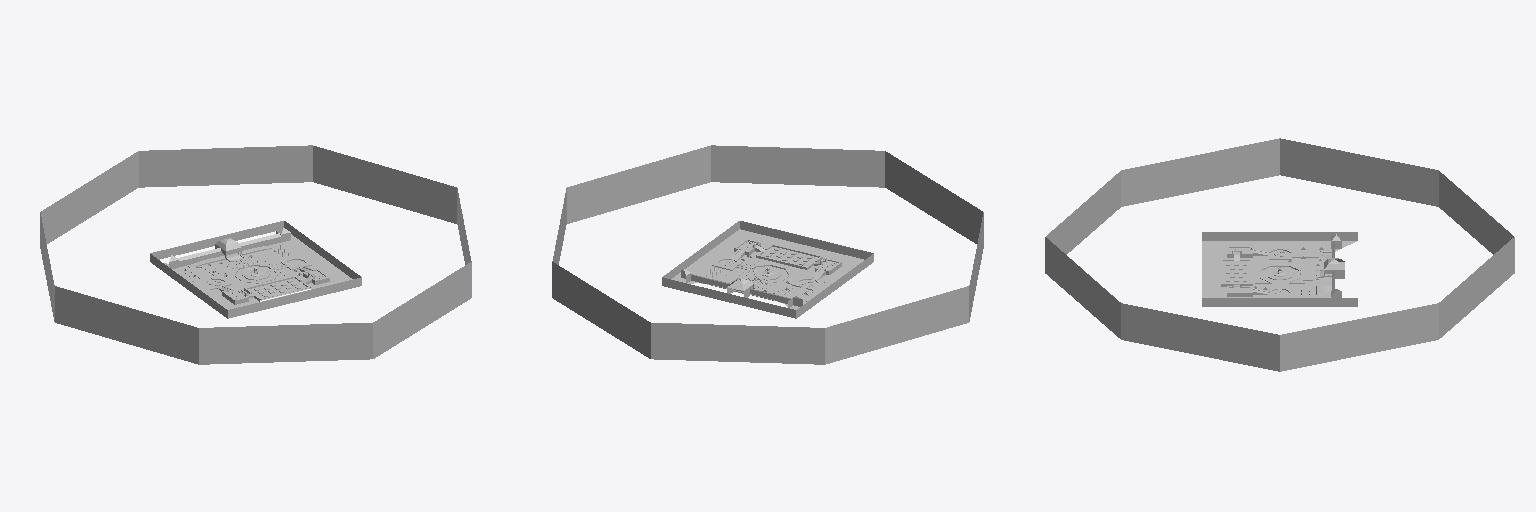
Rendered from Peach Garden.obj.
The picture shows the model from 3 angles: view 1: azimuth 30°, elevation 25°; view 2: azimuth 150°, elevation 25°; view 3: azimuth 270°, elevation 25°; orthographic projection.
Visible parts, largest first — view 1: polygon7, polygon9, polygon23, polygon16, polygon12; view 2: polygon7, polygon23, polygon9, polygon16, polygon5; view 3: polygon7, polygon23, polygon9, polygon16.
Boxes of the visible parts, box(x1,y1,x2,y2) form: polygon7: box(40, 145, 471, 364); polygon9: box(150, 221, 361, 318); polygon23: box(164, 234, 352, 309); polygon16: box(199, 258, 325, 300); polygon12: box(169, 228, 290, 261); polygon7: box(552, 145, 983, 364); polygon23: box(671, 229, 863, 309); polygon9: box(662, 221, 873, 318); polygon16: box(718, 241, 836, 290); polygon5: box(681, 270, 802, 307); polygon7: box(1045, 138, 1514, 371); polygon23: box(1202, 241, 1356, 297); polygon9: box(1202, 232, 1357, 306); polygon16: box(1223, 248, 1319, 296).
Bounding box in the file's own units: 1375 × 126 × 1387.